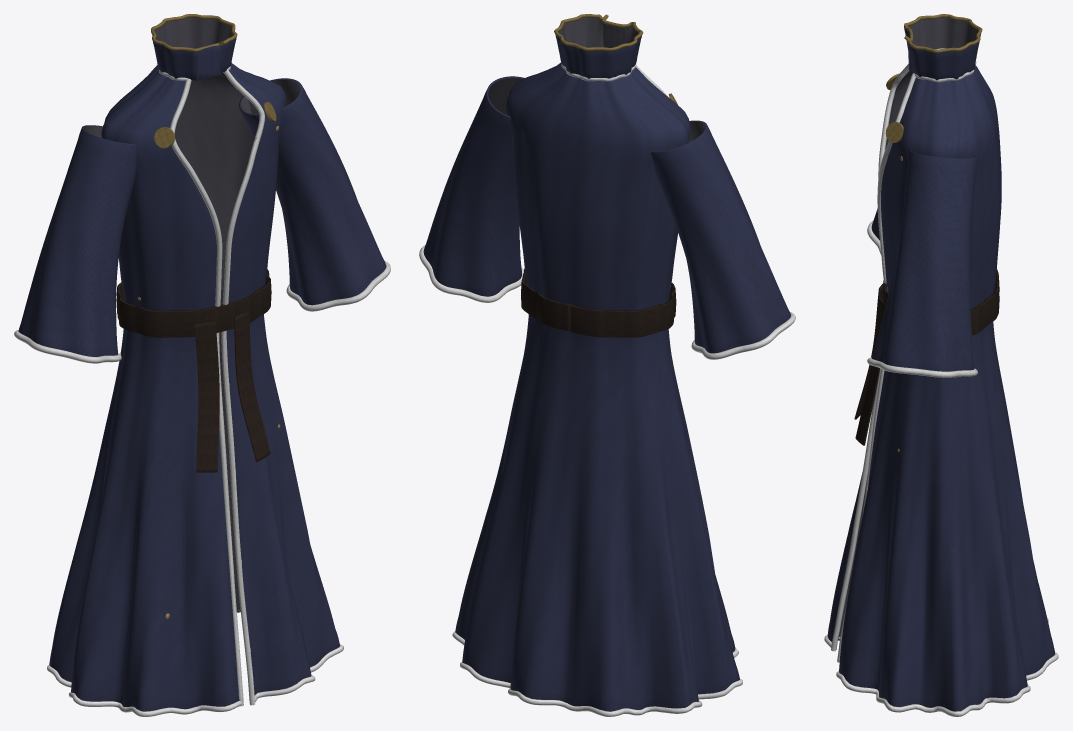
3 views of the same model, side by side, from view 1: azimuth 30°, elevation 25°; view 2: azimuth 150°, elevation 25°; view 3: azimuth 270°, elevation 25° (orthographic).
Parts seen in each view (by area): view 1: woven wool, brushed wool lining, oiled strap leather, tanned leather, aged alloy edge; view 2: woven wool, tanned leather, oiled strap leather, brushed wool lining, aged alloy edge; view 3: woven wool, oiled strap leather, brushed wool lining, tanned leather, aged alloy edge.
Part boxes in pixels (<box>): woven wool: <box>18,35,386,711</box>; brushed wool lining: <box>83,17,300,612</box>; oiled strap leather: <box>14,63,390,716</box>; tanned leather: <box>116,269,271,472</box>; aged alloy edge: <box>151,14,276,148</box>; woven wool: <box>423,34,790,711</box>; tanned leather: <box>521,269,676,337</box>; oiled strap leather: <box>419,64,795,716</box>; brushed wool lining: <box>488,17,705,142</box>; aged alloy edge: <box>554,14,677,104</box>; woven wool: <box>827,26,1054,711</box>; oiled strap leather: <box>824,48,1058,716</box>; brushed wool lining: <box>838,17,978,640</box>; tanned leather: <box>854,269,999,445</box>; aged alloy edge: <box>885,14,982,142</box>.
Size of the model in its own units: 0.868 by 1.49 by 0.5026.
Materials: 7 (5 with a texture image).
